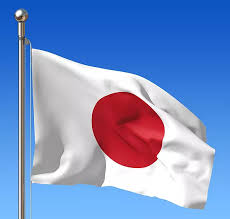Japanese Flag: (27, 45, 216, 213)
